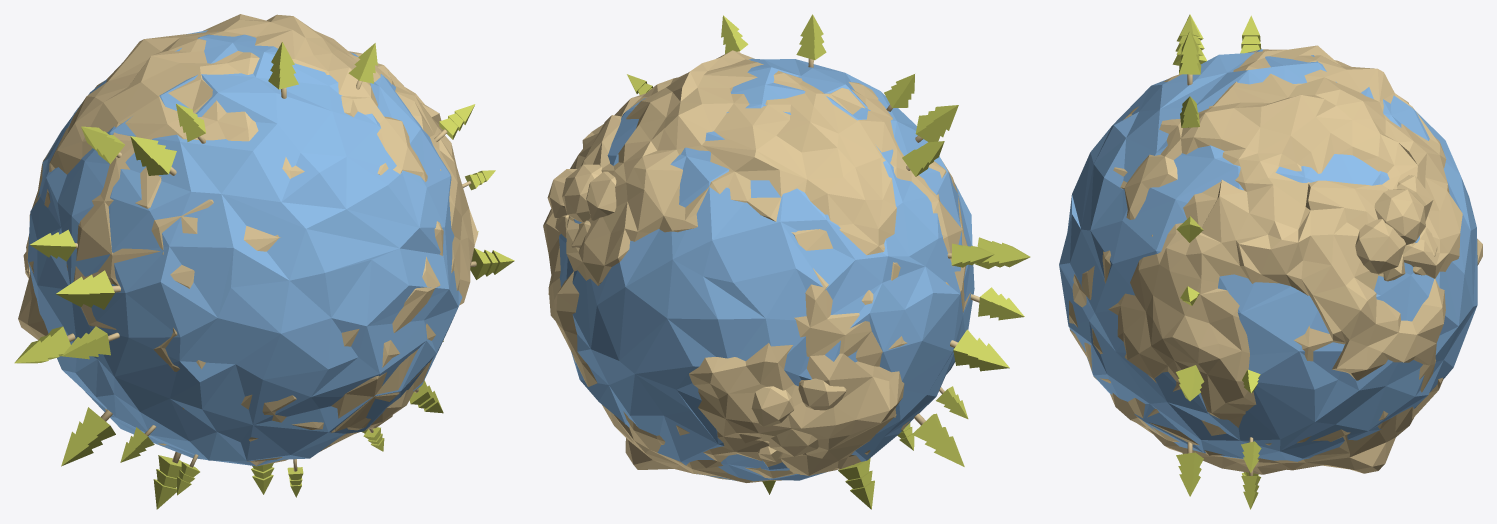
Rendered from PLANET_NORMAL_OPT.fbx.
3 views of the same model, side by side, from view 1: azimuth 30°, elevation 25°; view 2: azimuth 150°, elevation 25°; view 3: azimuth 270°, elevation 25° (orthographic). The views are drawn at different scales.
Parts seen in each view (by area): view 1: Planet_Normal_OPT; view 2: Planet_Normal_OPT; view 3: Planet_Normal_OPT.
Part boxes in pixels (x1,y1,x2,y2): Planet_Normal_OPT: [14, 14, 514, 509]; Planet_Normal_OPT: [543, 14, 1030, 509]; Planet_Normal_OPT: [1059, 14, 1482, 509].
Bounding box in the file's own units: 242 × 237 × 199.
